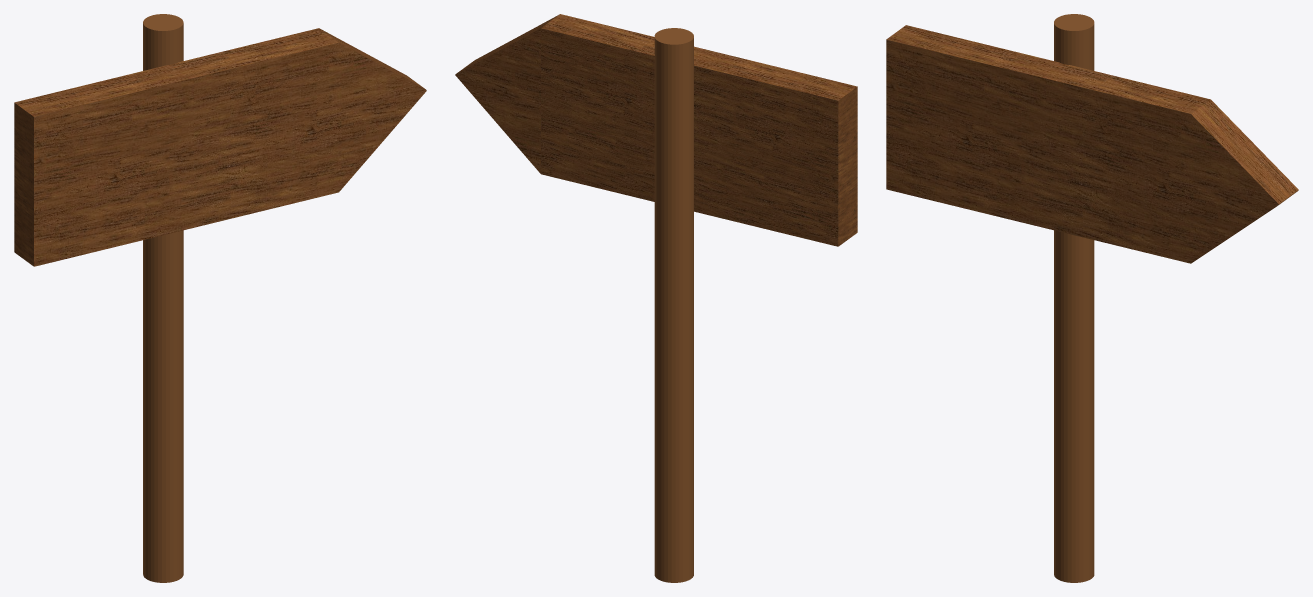
File: woodsign.fbx
3 views of the same model, side by side, from view 1: azimuth 30°, elevation 25°; view 2: azimuth 150°, elevation 25°; view 3: azimuth 330°, elevation 25° (orthographic). The views are drawn at different scales.
Parts seen in each view (by area): view 1: Cube; view 2: Cube; view 3: Cube.
Boxes of the visible parts, box(x1,y1,x2,y2) form: Cube: box(14, 14, 426, 582); Cube: box(455, 14, 857, 582); Cube: box(886, 14, 1298, 582).
Size of the model in its own units: 120 by 162 by 20.99.
